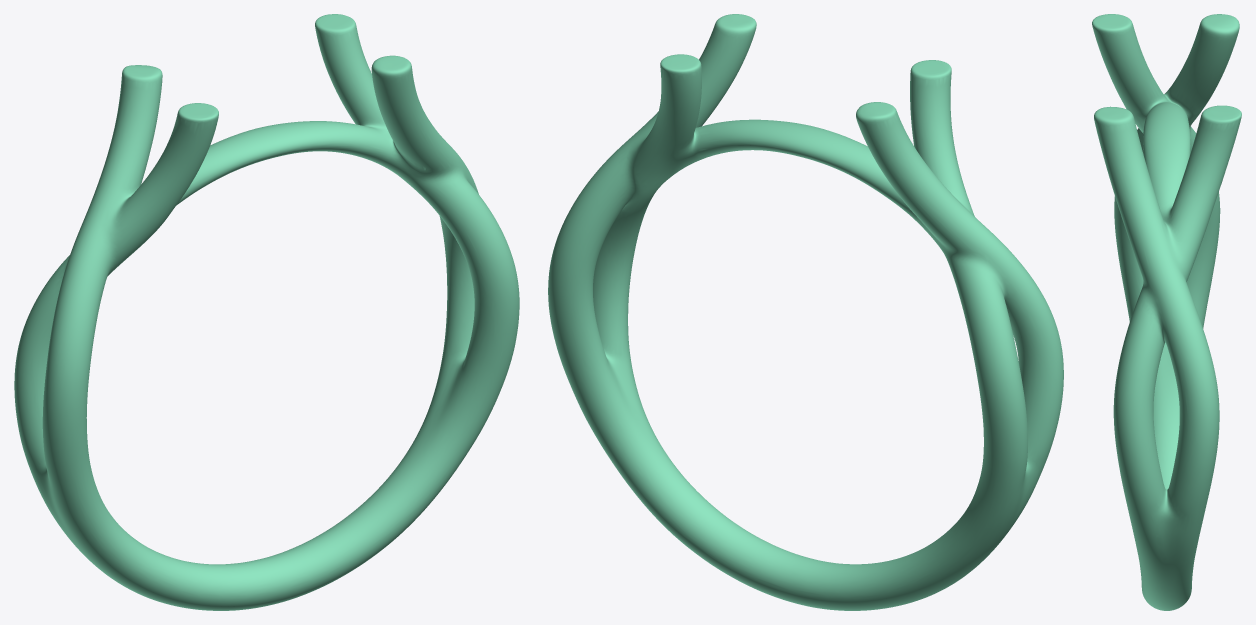
3 renders of one model, left to right at view 1: azimuth 30°, elevation 25°; view 2: azimuth 150°, elevation 25°; view 3: azimuth 270°, elevation 25°, orthographic. The views are drawn at different scales.
Parts seen in each view (by area): view 1: Metal02; view 2: Metal02; view 3: Metal02.
Part boxes in pixels (bbox=[...]): Metal02: bbox=[14, 14, 519, 610]; Metal02: bbox=[548, 14, 1063, 610]; Metal02: bbox=[1092, 14, 1241, 610].
Bounding box in the file's own units: 21.2 × 22.84 × 5.97.
